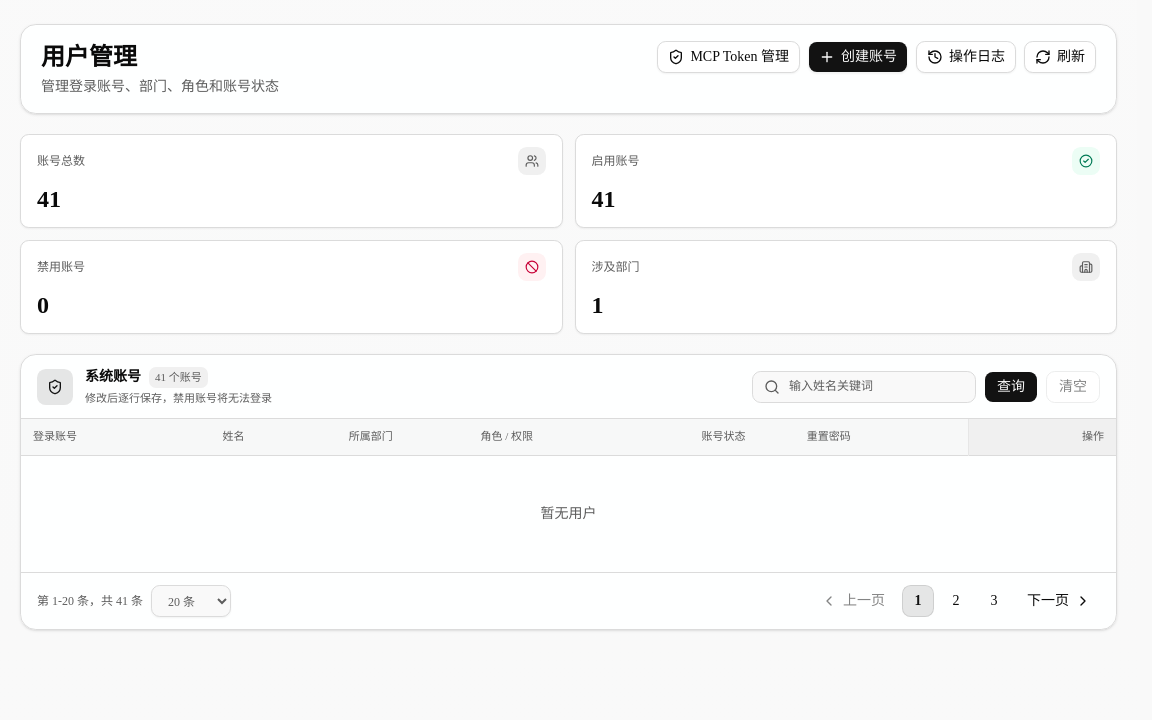
Scenario: User name filtering › supports Enter to search and clearing the name filter
Expected: the button "查询" is enabled, 984,370 -> 1038,402
Type "李" into the field named "姓名筛选" at (864, 386), box 752,370 -> 976,402
Then press Enter
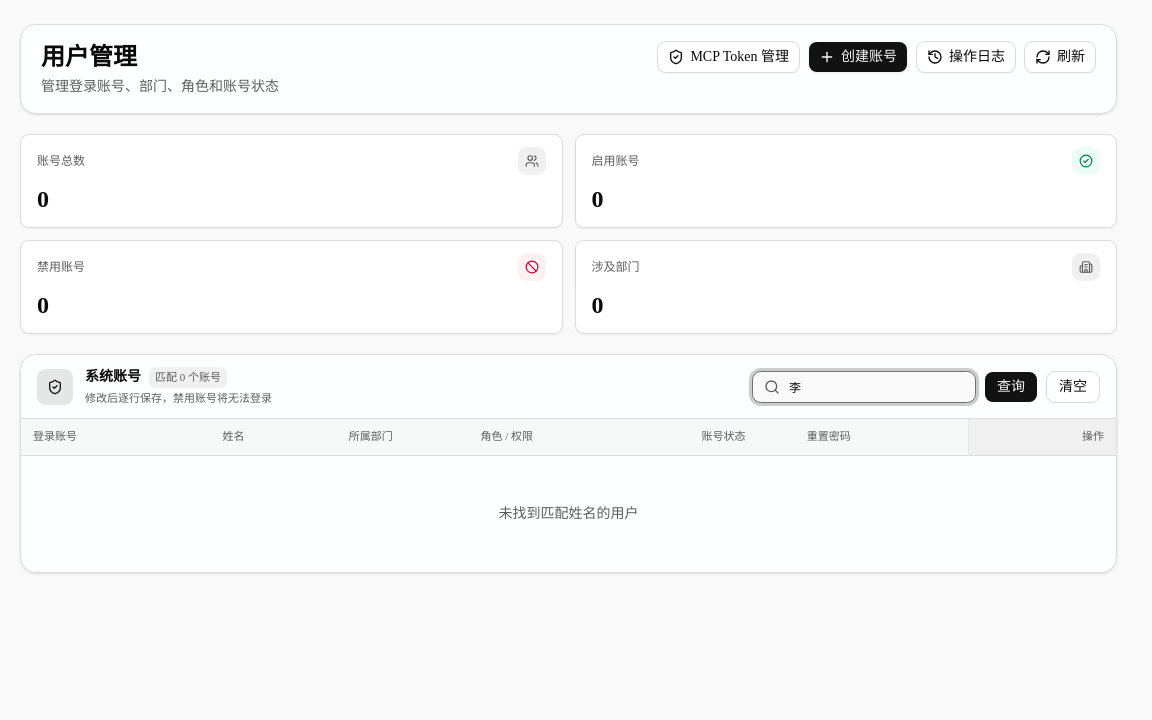
Now the button "清空" is enabled
Click the button "清空" at (1073, 386), box 1046,370 -> 1100,402
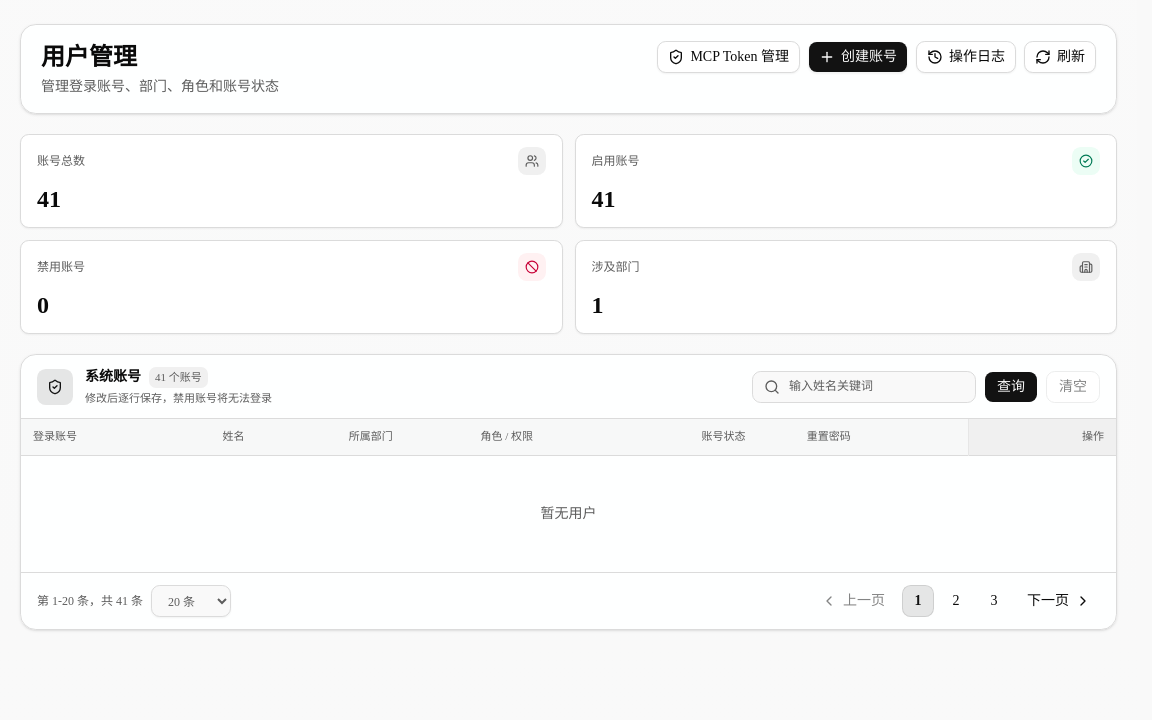
Now the field named "姓名筛选" is empty, box 752,370 -> 976,402
